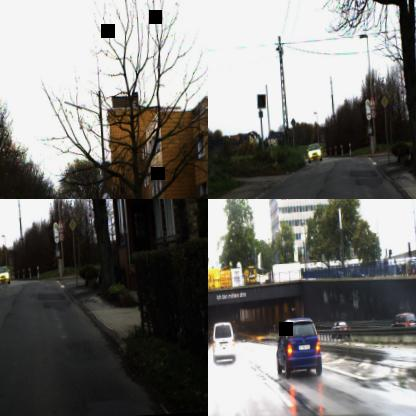DANGER: (55, 216, 64, 230), (367, 94, 376, 107)
priority road: (379, 94, 388, 109), (67, 217, 76, 232)
restriction ends 80: (101, 191, 110, 199)
speed limit 30: (370, 108, 376, 118), (58, 231, 64, 241)
